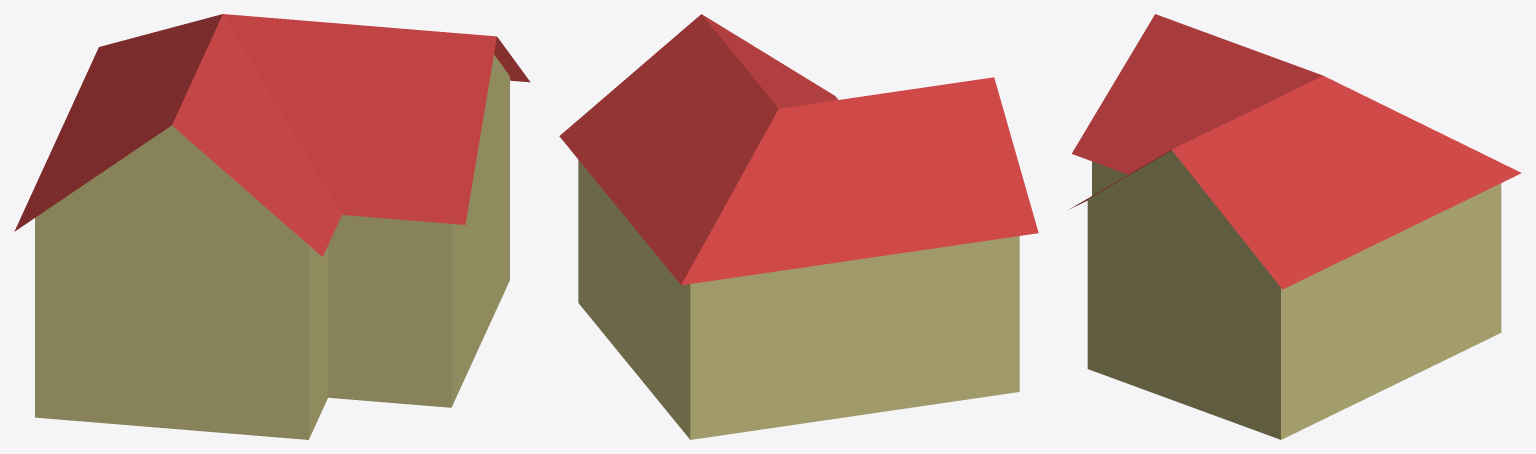
The picture shows the model from 3 angles, left to right: view 1: azimuth 30°, elevation 25°; view 2: azimuth 150°, elevation 25°; view 3: azimuth 270°, elevation 25°; orthographic projection. The views are drawn at different scales.
Bounding box in the file's own units: 17.81 × 15.63 × 9.79.
